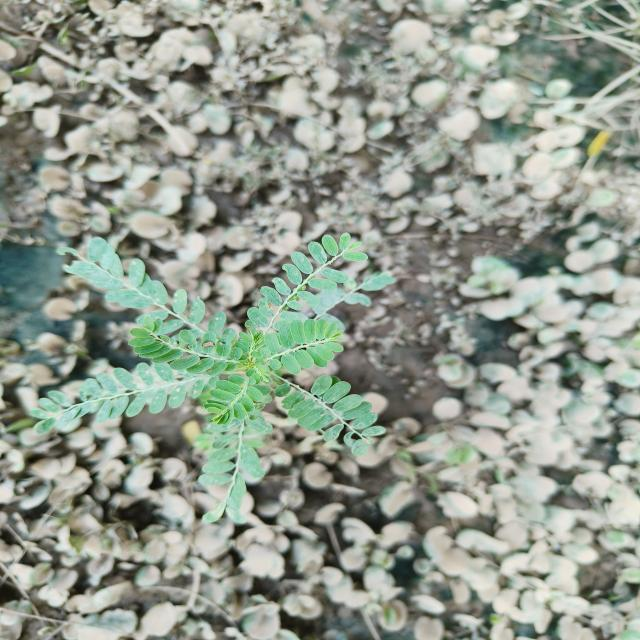weed: (23, 226, 393, 496)
